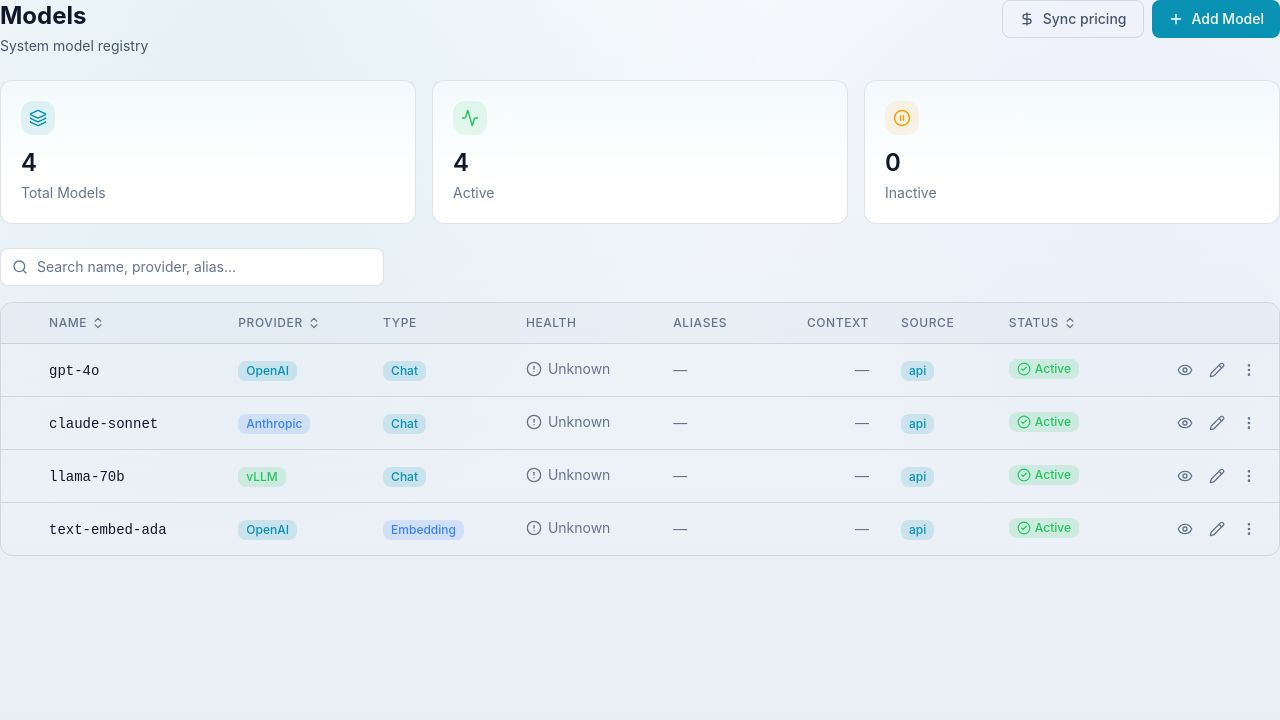
CreateModelDialog — Fallback Model field › when fallback_max_depth is greater than 0 › shows helpful description text when fallback is enabled in server config
The image size is (1280, 720).
Step 1. Click the button "Add Model" → (1216, 19), box [1152,0,1279,38]
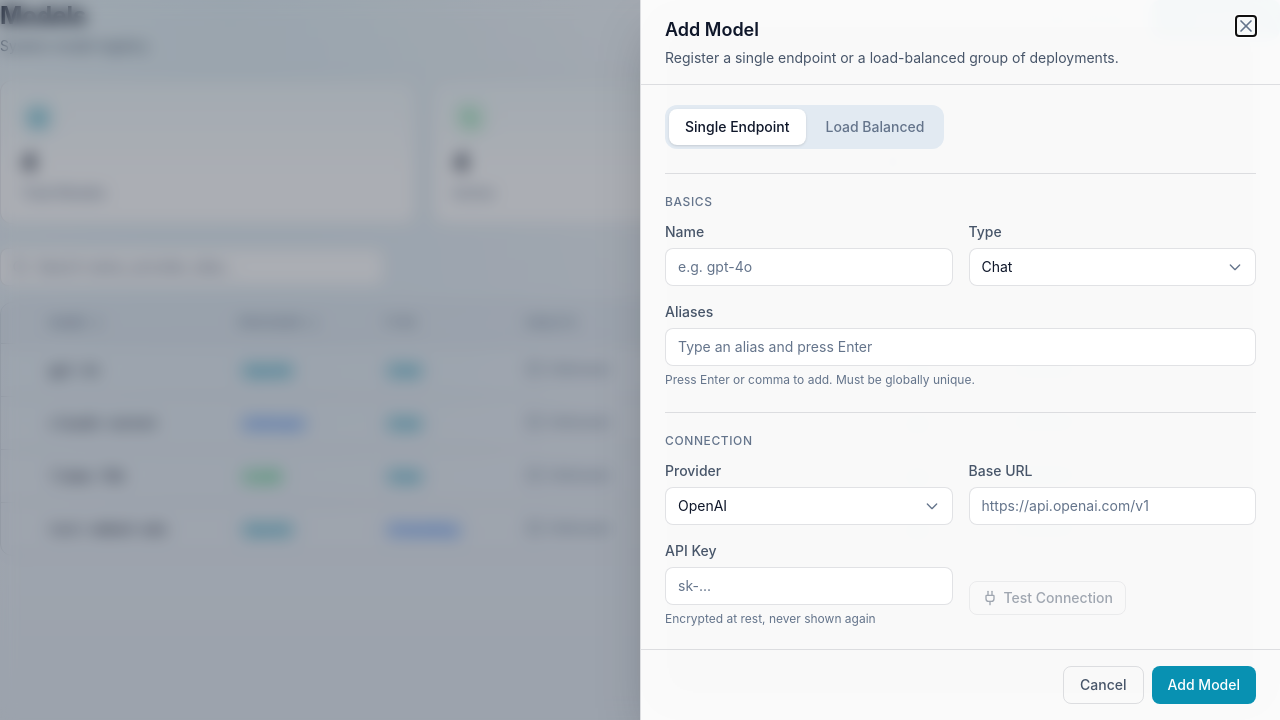
Step 2. Click the tab "Load Balanced" → (875, 127), box [810,109,940,145]
(page scrolled)
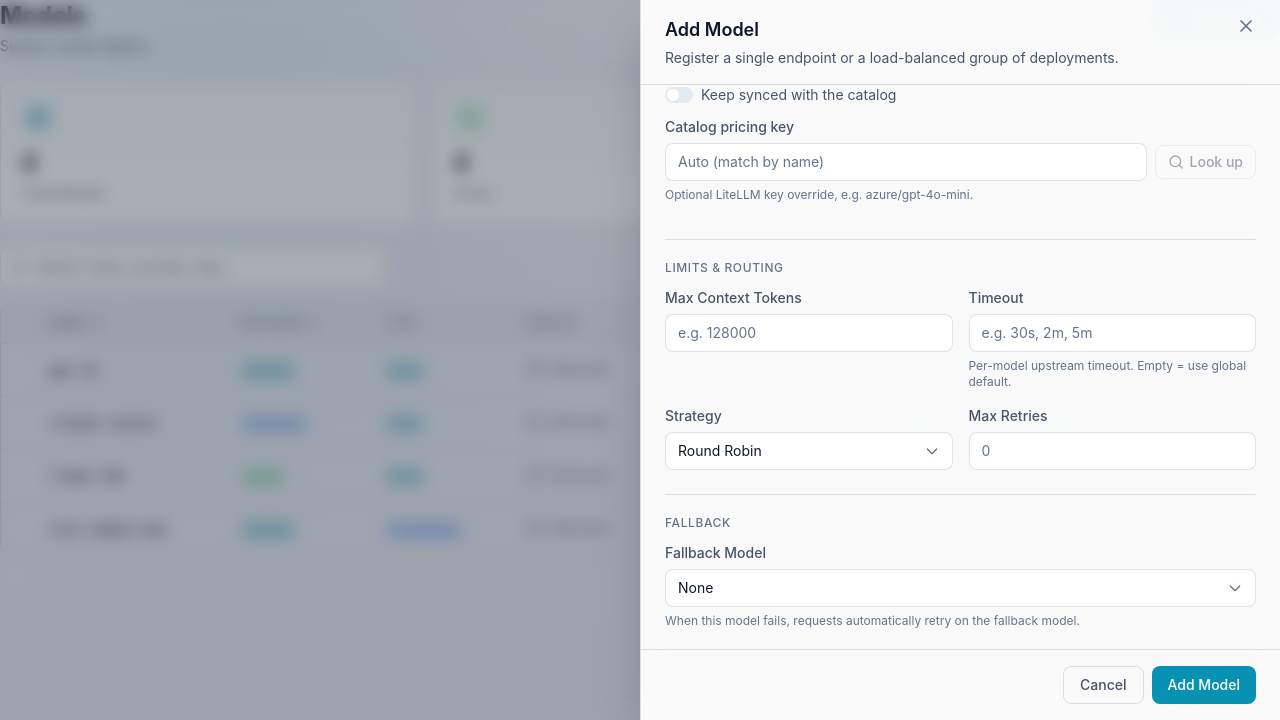
Check: the text "automatically retry on the fallback model" is shown, box [665,613,1080,628]
